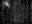person: (2, 1, 9, 6)
